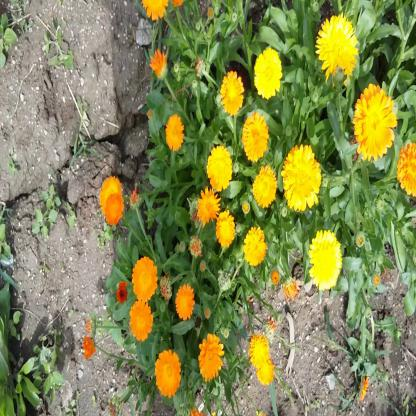marigold: (318, 16, 364, 83), (355, 85, 394, 160), (284, 143, 322, 209), (310, 230, 342, 290), (254, 49, 282, 99), (245, 111, 270, 157), (156, 351, 180, 397), (198, 334, 222, 378), (208, 145, 231, 188), (133, 260, 156, 302), (222, 73, 244, 115), (244, 225, 266, 266), (98, 176, 122, 212), (255, 166, 276, 207), (399, 143, 415, 193), (130, 302, 150, 340), (165, 112, 183, 149), (175, 285, 194, 317), (250, 333, 268, 366), (199, 189, 218, 220), (104, 196, 125, 223), (218, 212, 234, 246), (256, 357, 275, 385)
